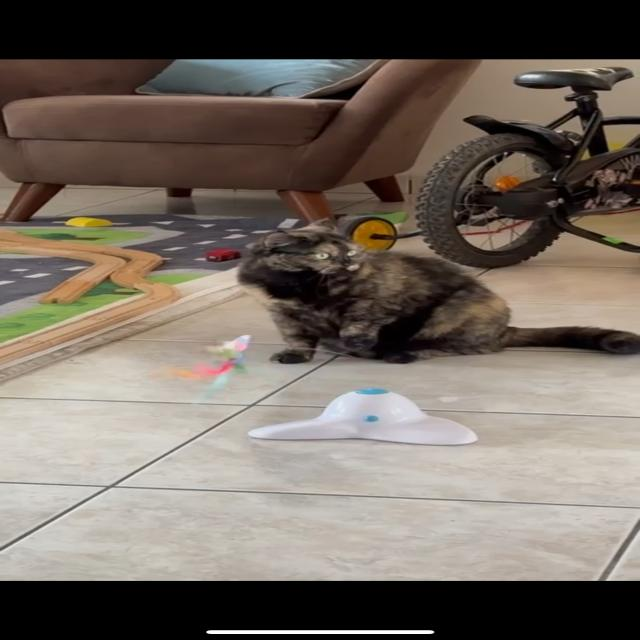authorized: (235, 216, 639, 365)
